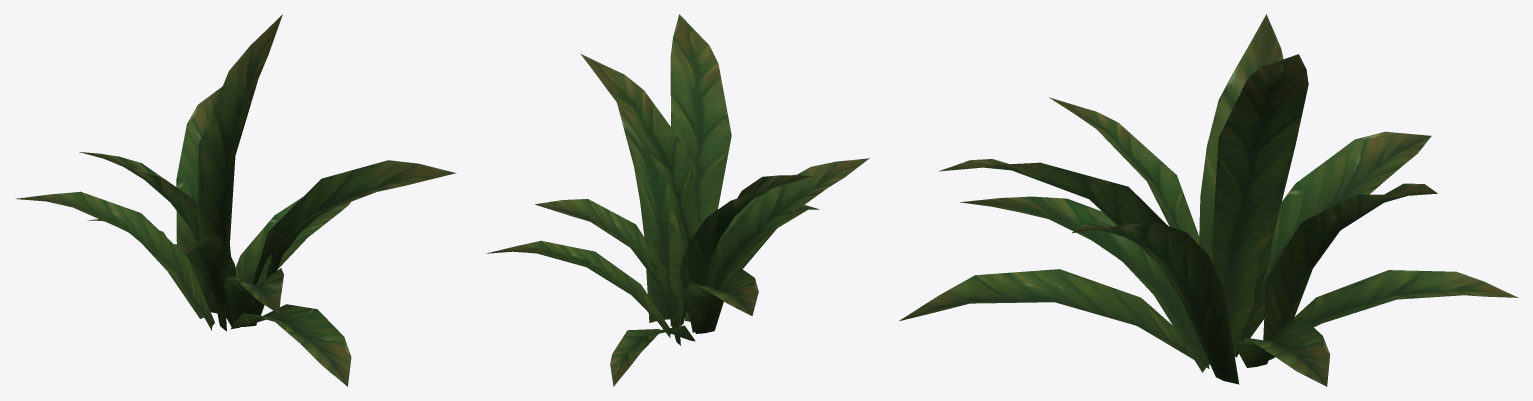
The model's file is Shrub_04.fbx.
3 renders of one model, left to right at view 1: azimuth 30°, elevation 25°; view 2: azimuth 150°, elevation 25°; view 3: azimuth 270°, elevation 25°, orthographic. The views are drawn at different scales.
Visible parts, largest first — view 1: Shrub_04; view 2: Shrub_04; view 3: Shrub_04.
Boxes of the visible parts, <box> form: Shrub_04: <box>15,14,456,386</box>; Shrub_04: <box>486,14,869,386</box>; Shrub_04: <box>899,14,1518,386</box>.
Size of the model in its own units: 4.94 by 4.22 by 6.59.
1 material, 1 textured.
